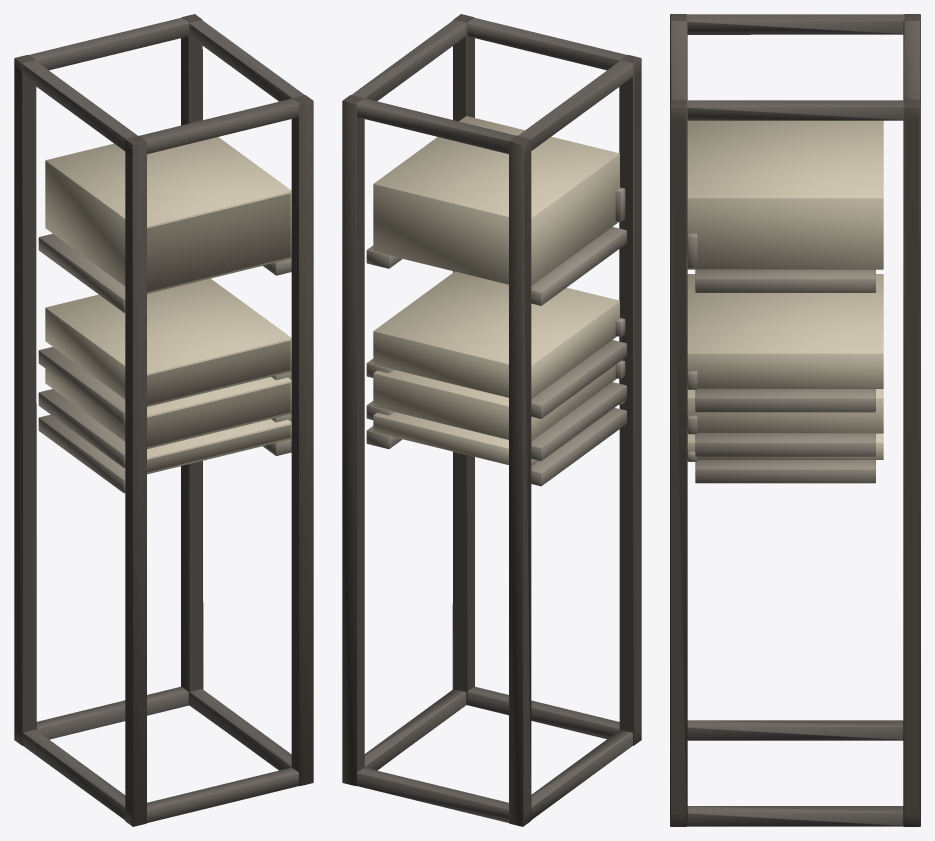
Rendered from compute-server-rack-era1.glb.
3 views of the same model, side by side, from view 1: azimuth 30°, elevation 25°; view 2: azimuth 150°, elevation 25°; view 3: azimuth 270°, elevation 25° (orthographic). The views are drawn at different scales.
Visible parts, largest first — view 1: rack_frame, unit_4u, unit_2u_b, unit_4u_face, unit_2u_a_face, unit_2u_b_face, unit_2u_a, unit_4u_side_l, unit_2u_a_side_l, unit_2u_b_side_l, unit_1u_side_l, unit_1u (+1 smaller); view 2: rack_frame, unit_4u, unit_2u_b, unit_2u_a, unit_1u, unit_2u_a_side_l, unit_2u_b_side_l, unit_4u_side_l, unit_1u_side_l; view 3: rack_frame, unit_4u, unit_2u_b, unit_2u_a, unit_4u_side_r, unit_2u_a_side_r, unit_2u_b_side_r, unit_1u_side_r, unit_1u.
Part boxes in pixels (x1,y1,x2,y2): rack_frame: (14, 14, 313, 826); unit_4u: (45, 137, 291, 293); unit_2u_b: (45, 278, 291, 406); unit_4u_face: (147, 193, 290, 291); unit_2u_a_face: (147, 382, 290, 447); unit_2u_b_face: (147, 340, 290, 404); unit_2u_a: (45, 368, 291, 449); unit_4u_side_l: (38, 233, 125, 312); unit_2u_a_side_l: (38, 389, 125, 467); unit_2u_b_side_l: (38, 347, 125, 425); unit_1u_side_l: (38, 414, 125, 493); unit_1u: (147, 419, 291, 474); rack_frame: (342, 14, 641, 826); unit_4u: (373, 116, 619, 285); unit_2u_b: (373, 271, 619, 398); unit_2u_a: (373, 365, 616, 440); unit_1u: (373, 412, 538, 466); unit_2u_a_side_l: (531, 382, 626, 461); unit_2u_b_side_l: (531, 340, 626, 418); unit_4u_side_l: (531, 227, 626, 305); unit_1u_side_l: (531, 407, 626, 486); rack_frame: (670, 14, 920, 826); unit_4u: (687, 120, 883, 269); unit_2u_b: (687, 274, 883, 388); unit_2u_a: (687, 389, 883, 433); unit_4u_side_r: (695, 269, 875, 292); unit_2u_a_side_r: (695, 433, 875, 456); unit_2u_b_side_r: (695, 389, 875, 412); unit_1u_side_r: (695, 460, 875, 483); unit_1u: (687, 433, 883, 459).
Bounding box in the file's own units: 0.5 × 1.8 × 0.568.
